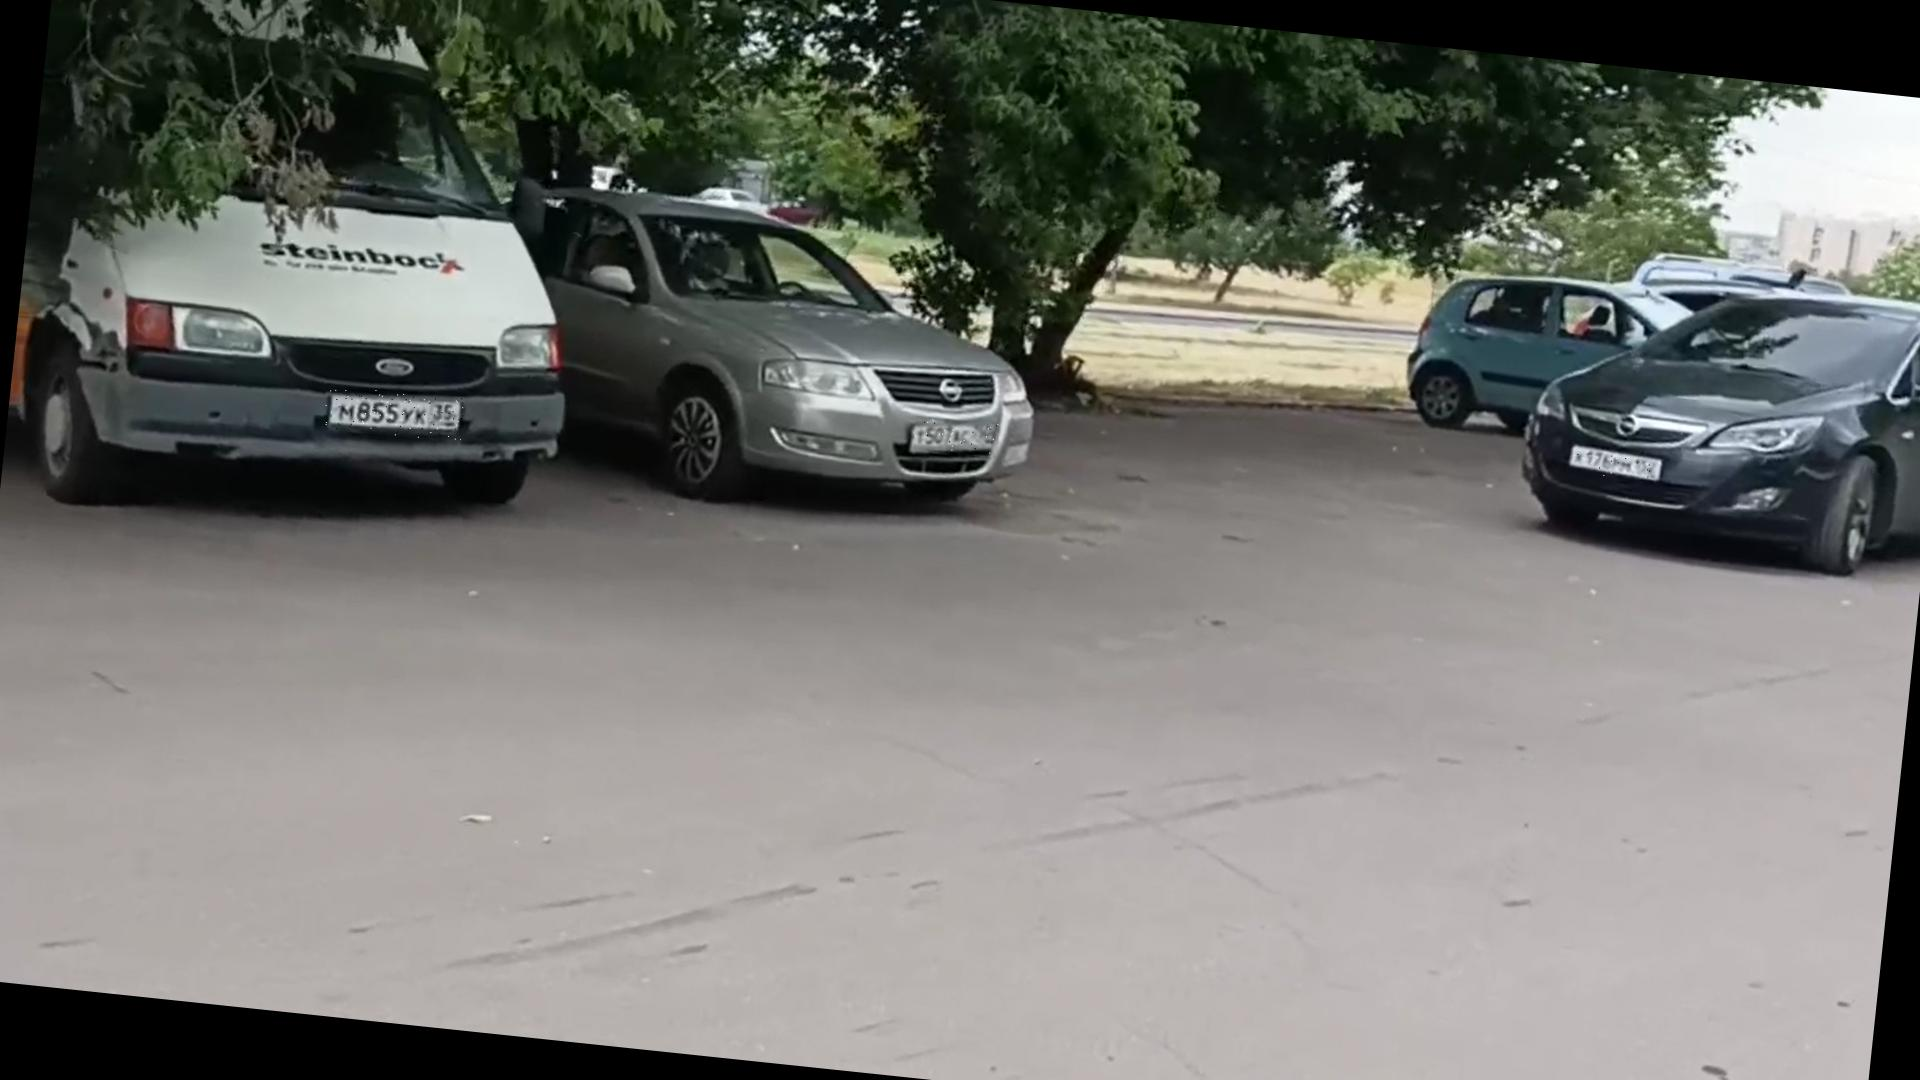plate: (324, 385, 467, 444), (915, 418, 1000, 460), (1574, 453, 1668, 483)
